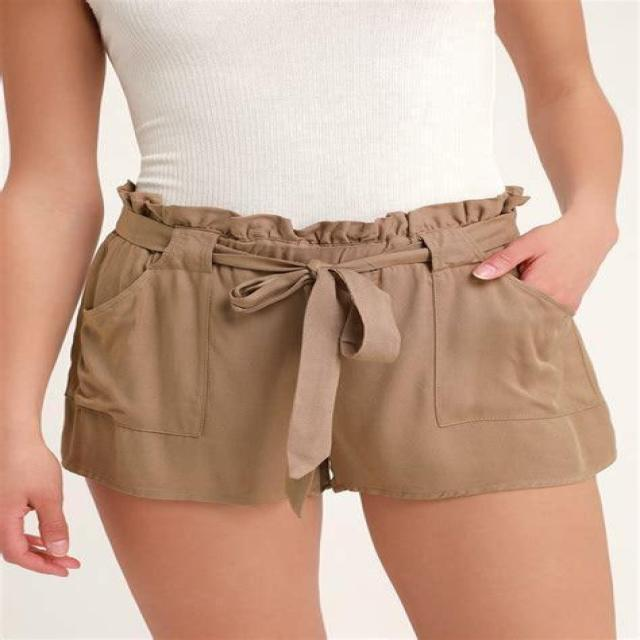short: (63, 180, 618, 504)
